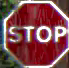Stop: (3, 0, 68, 67)
